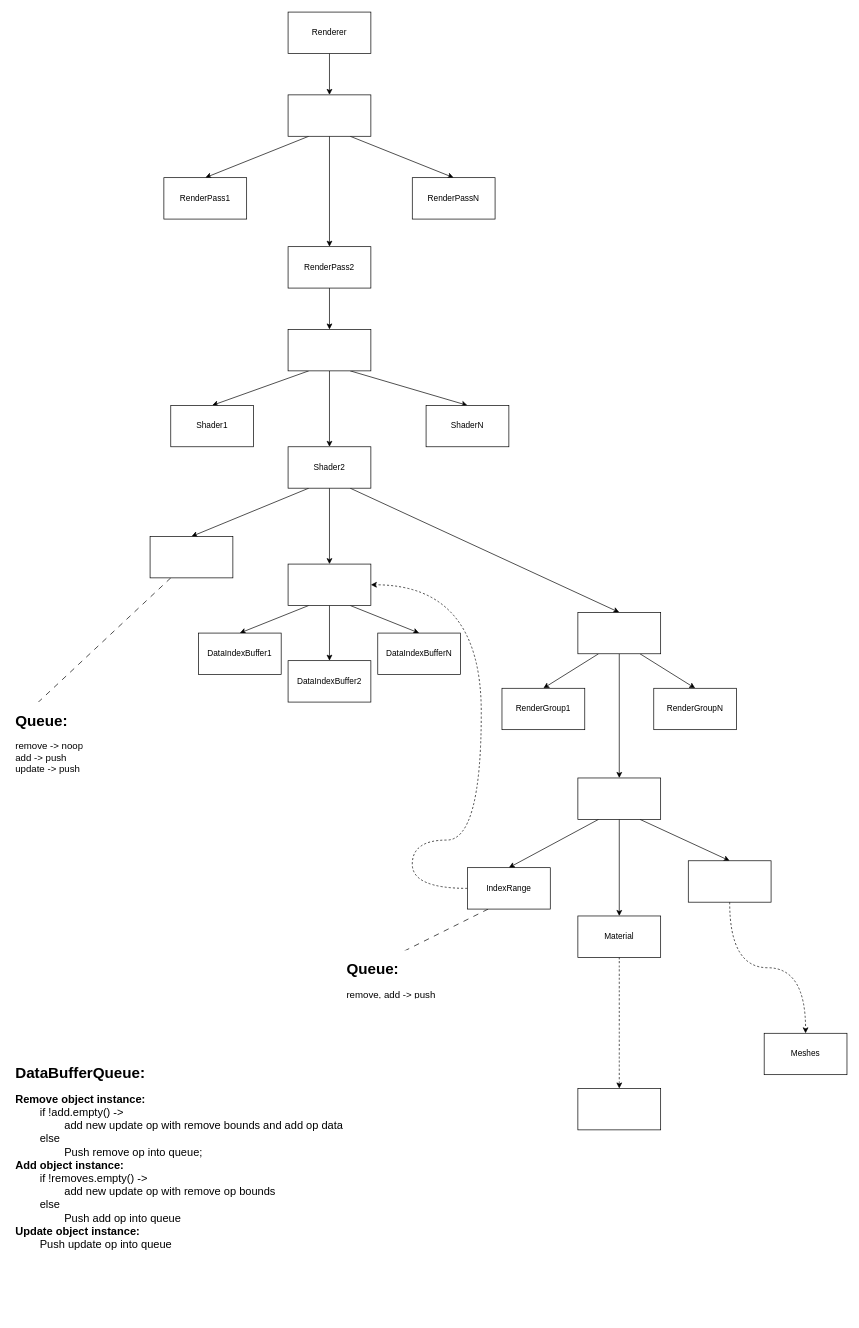
This 859x1328 diagram has some shape labels left out. Here are the shapes that lost their labels. From the top down, the centre of each, then its label:
point 329,115: RenderPasses
point 329,350: Shaders
point 191,557: DataBuffer
point 329,584: DataIndexStorage
point 619,633: RenderGroups
point 619,798: RenderGroup2
point 729,881: Mesh
point 619,1109: Materials
